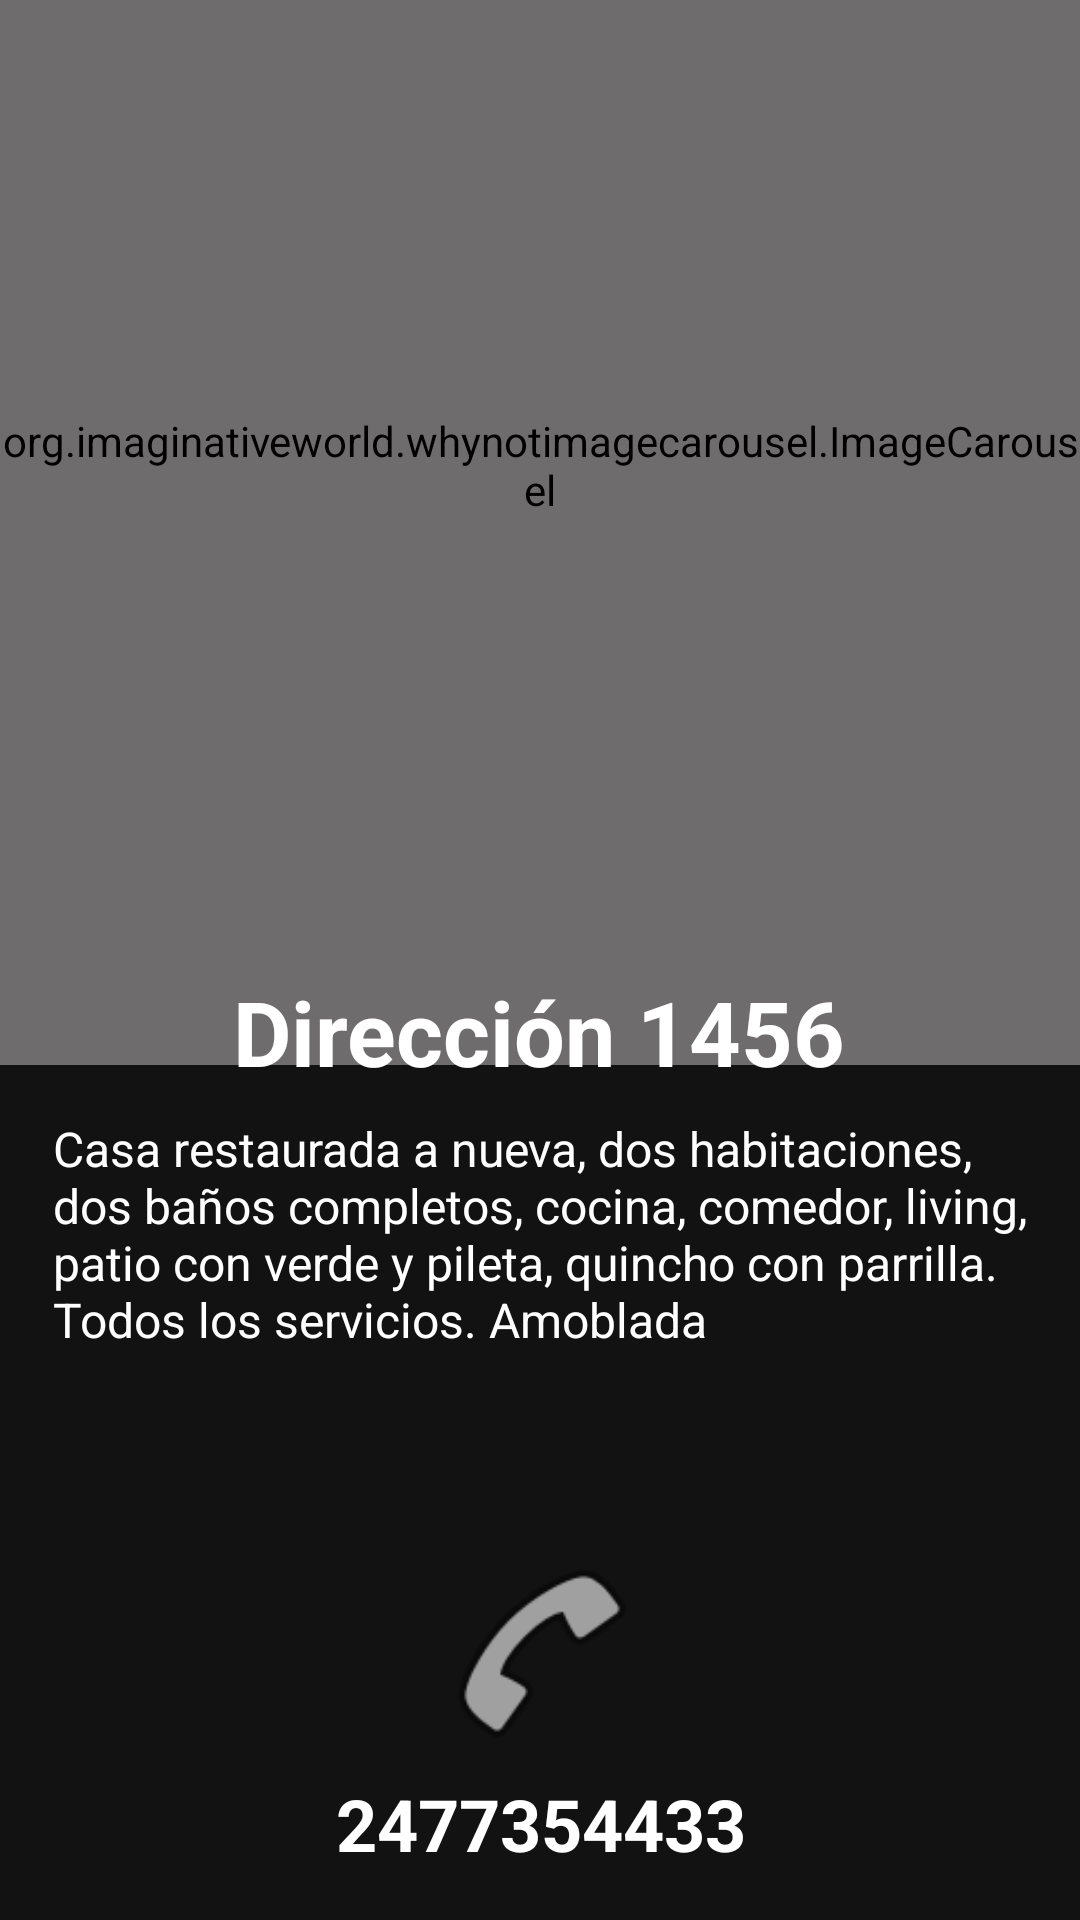

Where icons sit on this 1080*1920 app screen, as [x1,y1,x2,y2]:
call: [464,1576,620,1731]
